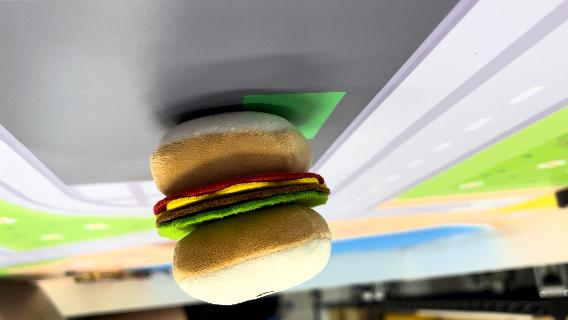sandwich: (147, 108, 336, 306)
